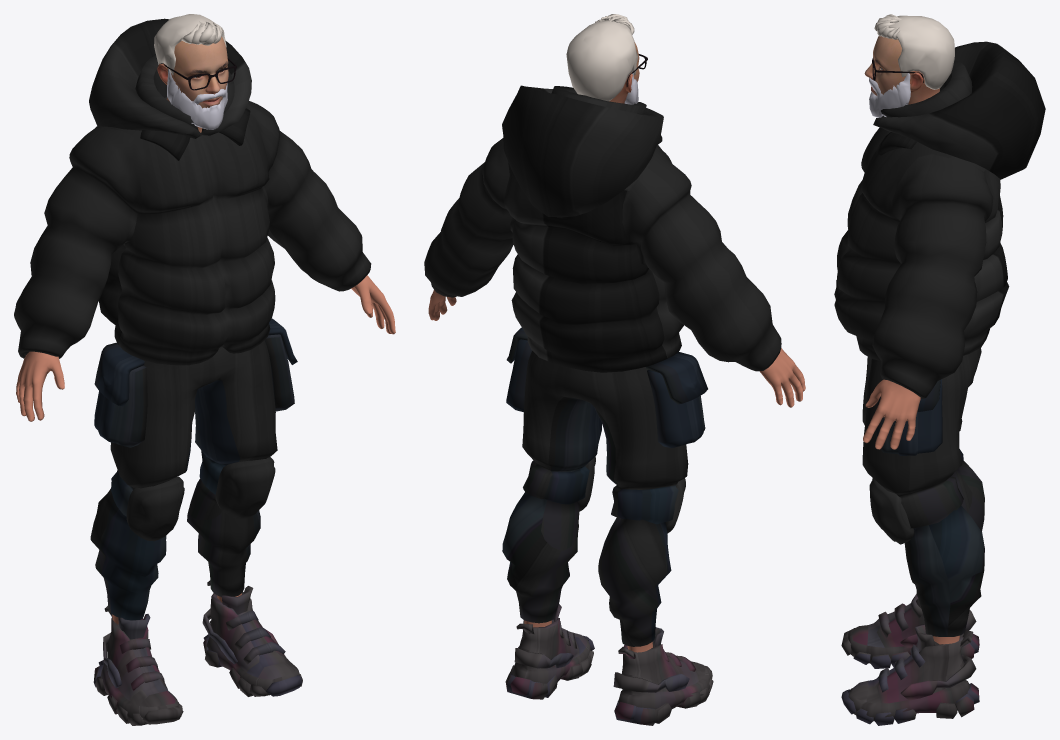
3 renders of one model, left to right at view 1: azimuth 30°, elevation 25°; view 2: azimuth 150°, elevation 25°; view 3: azimuth 270°, elevation 25°, orthographic.
Parts seen in each view (by area): view 1: Wolf3D_Outfit_Top, Wolf3D_Outfit_Bottom, Wolf3D_Outfit_Footwear, Wolf3D_Body, Wolf3D_Head, Wolf3D_Hair, Wolf3D_Beard; view 2: Wolf3D_Outfit_Top, Wolf3D_Outfit_Bottom, Wolf3D_Outfit_Footwear, Wolf3D_Hair, Wolf3D_Body; view 3: Wolf3D_Outfit_Top, Wolf3D_Outfit_Bottom, Wolf3D_Outfit_Footwear, Wolf3D_Hair, Wolf3D_Body, Wolf3D_Head, Wolf3D_Beard.
Part boxes in pixels (left/top/right/bottom): Wolf3D_Outfit_Top: left=14, top=18, right=371, bottom=365; Wolf3D_Outfit_Bottom: left=90, top=318, right=297, bottom=620; Wolf3D_Outfit_Footwear: left=93, top=580, right=302, bottom=725; Wolf3D_Body: left=16, top=275, right=395, bottom=624; Wolf3D_Head: left=157, top=36, right=228, bottom=132; Wolf3D_Hair: left=154, top=14, right=226, bottom=74; Wolf3D_Beard: left=167, top=69, right=227, bottom=129; Wolf3D_Outfit_Top: left=424, top=85, right=781, bottom=372; Wolf3D_Outfit_Bottom: left=502, top=327, right=707, bottom=646; Wolf3D_Outfit_Footwear: left=505, top=604, right=713, bottom=725; Wolf3D_Hair: left=566, top=14, right=637, bottom=101; Wolf3D_Body: left=428, top=290, right=805, bottom=652; Wolf3D_Outfit_Top: left=834, top=41, right=1045, bottom=398; Wolf3D_Outfit_Bottom: left=862, top=348, right=984, bottom=636; Wolf3D_Outfit_Footwear: left=841, top=584, right=979, bottom=725; Wolf3D_Hair: left=874, top=14, right=954, bottom=89; Wolf3D_Body: left=863, top=379, right=959, bottom=644; Wolf3D_Head: left=864, top=36, right=939, bottom=104; Wolf3D_Beard: left=869, top=73, right=910, bottom=117.
Size of the model in its own units: 1.06 by 1.86 by 0.5332.
Materials: 10 (10 with a texture image).
